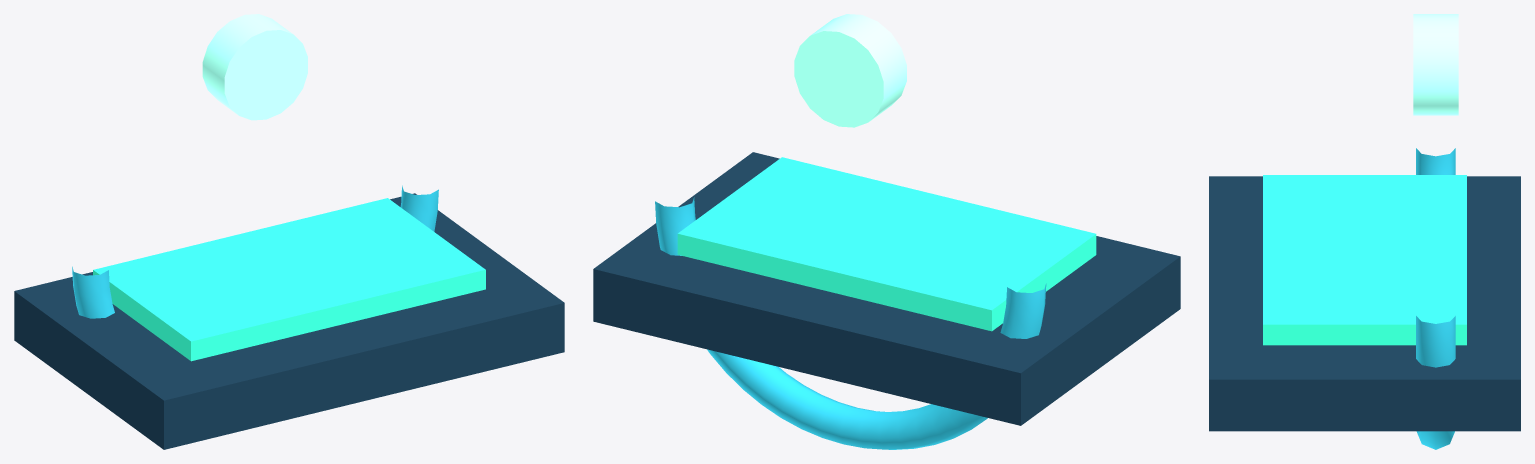
File: evidence-scanner.glb
3 views of the same model, side by side, from view 1: azimuth 30°, elevation 25°; view 2: azimuth 150°, elevation 25°; view 3: azimuth 270°, elevation 25° (orthographic). The views are drawn at different scales.
Bounding box in the file's own units: 1.7 × 1.6 × 1.1.
